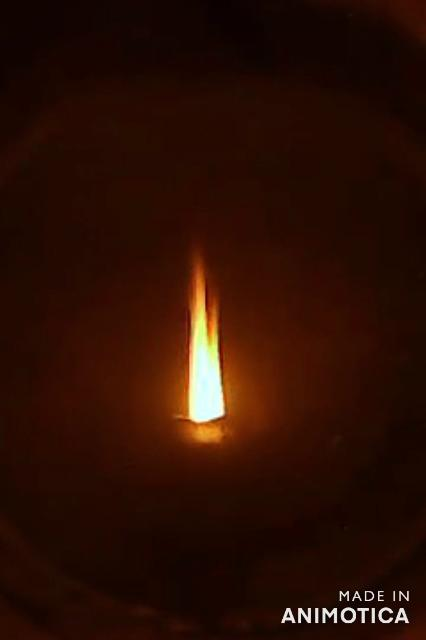burner flame: (186, 233, 224, 425)
